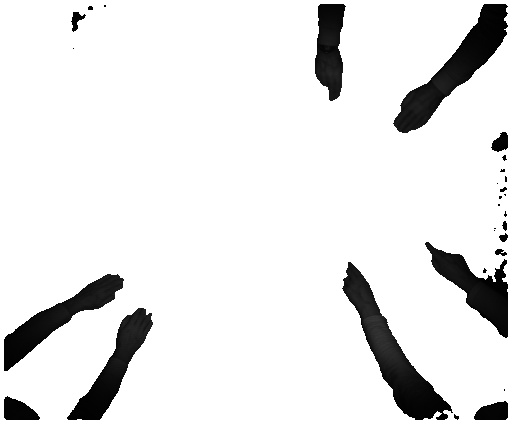hand: (424, 240, 473, 288), (117, 308, 159, 364), (336, 256, 376, 312), (392, 87, 438, 135), (74, 272, 126, 313), (312, 49, 343, 103)
